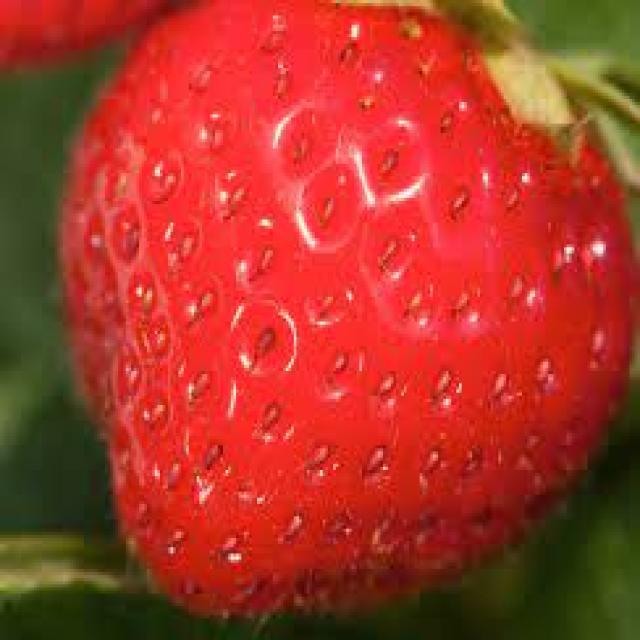strawberry: (33, 13, 629, 613)
